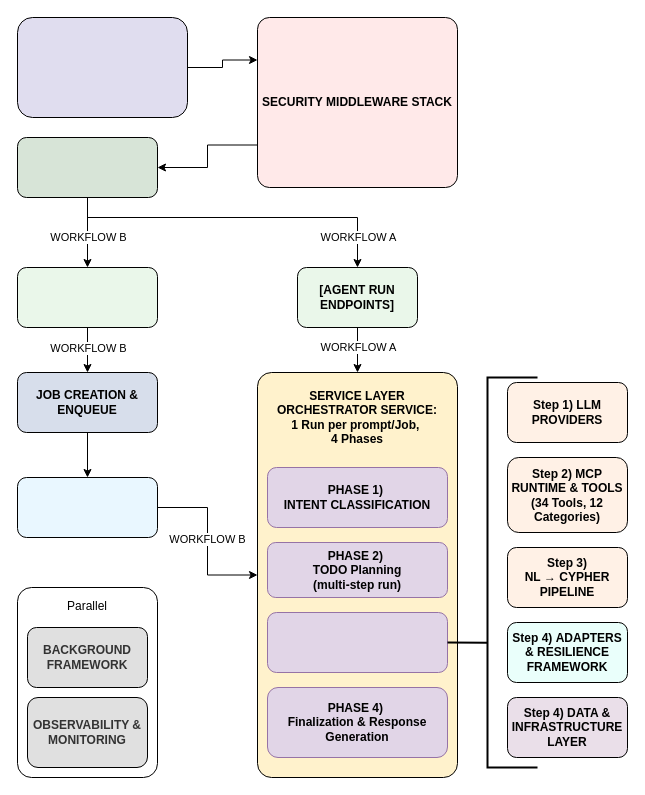
The diagram is 645 pixels wide and 795 high, and some of its shapes have lost their labels. Here are the shapes that lost their labels. From the top down, the centre of each, then its label:
At (102,67): "UI + IDENTITY & AUTHENTICATION LAYER: CLIENTS & USER INTERFACES".
At (87,167): "API LAYER (Routers)".
At (87,297): "[ LONG-RUNNING JOB ENDPOINTS ]".
At (87,507): "WORKERS".
At (357,642): "PHASE 3) Step Execution, FOR EACH TODO".
